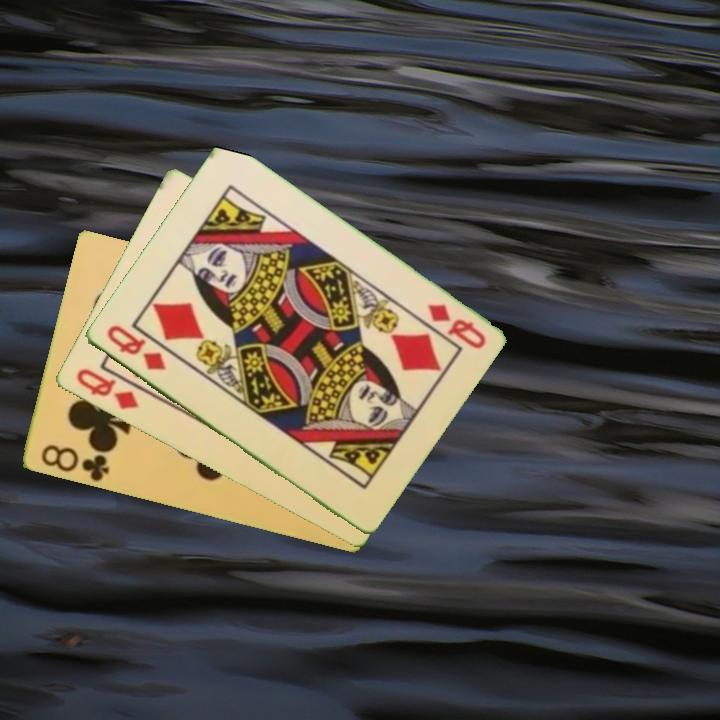8c: (37, 441, 112, 485)
Qd: (102, 321, 169, 374), (422, 300, 489, 352), (72, 365, 141, 413)
